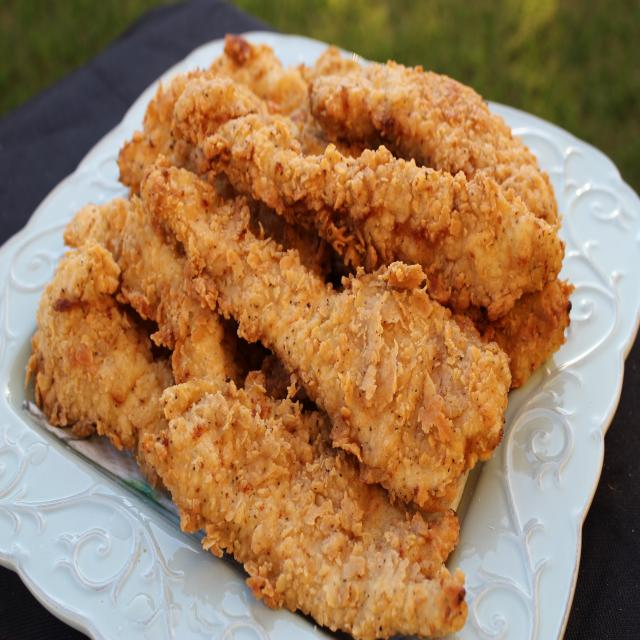Wet: (134, 114, 492, 499), (166, 73, 544, 308), (171, 358, 465, 630), (48, 180, 222, 507)
